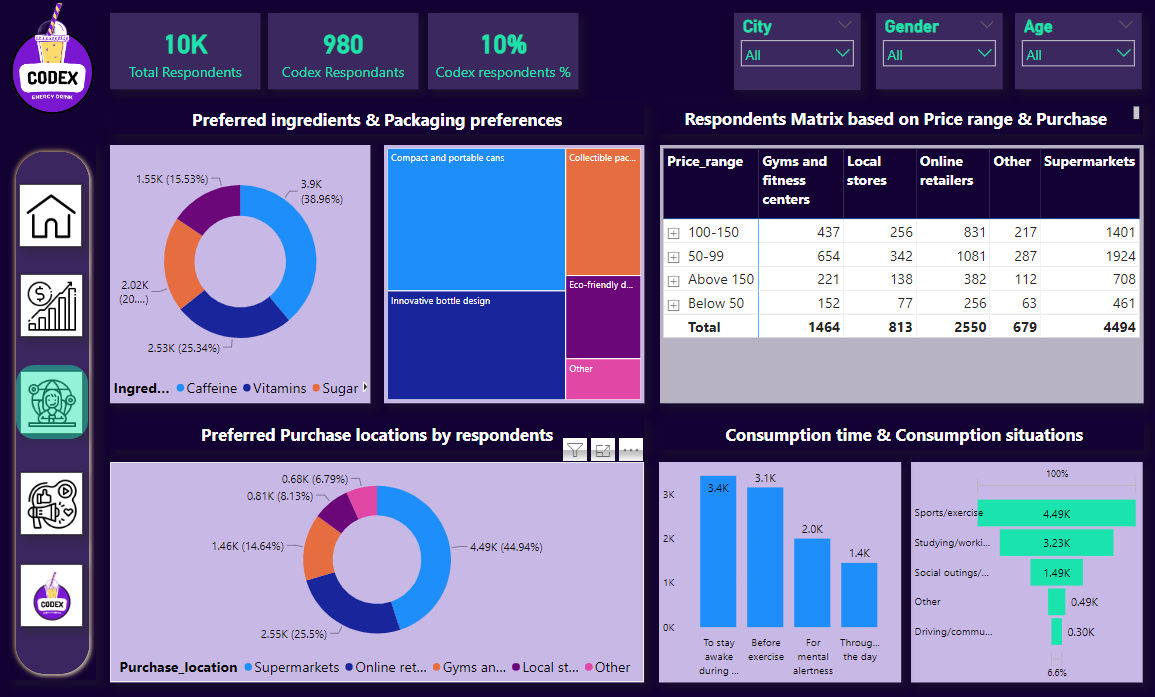

The dashboard page shown, as its layout file describes it:
{"tool":"powerbi","page":{"name":"Consumer View","canvas":[1650,1000],"ordinal":2},"visuals":[{"type":"treemap","fields":{"Group":["codex fact_survey_responses.Packaging_preference"],"Values":["CountNonNull(codex dim_repondents.Respondent_ID)"]},"box":[548.1,209.3,372.2,368.5],"z":0},{"type":"pivotTable","fields":{"Rows":["codex fact_survey_responses.Price_range","codex dim_repondents.Age"],"Columns":["codex fact_survey_responses.Purchase_location"],"Values":["CountNonNull(codex fact_survey_responses.Respondent_ID)"]},"box":[942.6,209.3,690.7,368.5],"z":1000},{"type":"funnel","fields":{"Category":["codex fact_survey_responses.Typical_consumption_situations"],"Y":["CountNonNull(codex fact_survey_responses.Respondent_ID)"]},"box":[1301.9,661.1,331.5,314.8],"z":2000},{"type":"donutChart","fields":{"Category":["codex fact_survey_responses.Purchase_location"],"Y":["CountNonNull(codex fact_survey_responses.Respondent_ID)"]},"box":[157.4,661.1,763,314.8],"z":3000},{"type":"textbox","box":[157.4,150,763,42.6],"z":4000},{"type":"textbox","box":[157.4,600,763,44.4],"z":5000},{"type":"textbox","box":[942.6,600,690.7,44.4],"z":6000},{"type":"textbox","box":[940.7,148.1,690.7,44.4],"z":7000},{"type":"columnChart","fields":{"Category":["codex fact_survey_responses.Consume_time"],"Y":["CountNonNull(codex fact_survey_responses.Respondent_ID)"]},"box":[940.7,661.1,346.3,314.8],"z":8000},{"type":"donutChart","fields":{"Y":["CountNonNull(codex fact_survey_responses.Respondent_ID)"],"Category":["codex fact_survey_responses.Ingredients_expected"]},"box":[157.4,209.3,372.2,368.5],"z":9000},{"type":"shape","box":[13,209.3,124.1,764.8],"z":10000},{"type":"image","box":[27.1,264.3,90,90],"z":11000},{"type":"image","box":[28.6,675.7,90,90],"z":12000},{"type":"image","box":[28.6,531.4,90,90],"z":13000},{"type":"image","box":[28.6,392.9,90,90],"z":14000},{"type":"image","box":[28.6,807.1,90,90],"z":15000},{"type":"shape","box":[22.9,522.9,102.9,105.7],"z":16000},{"type":"image","box":[1.4,0,145.7,171.4],"z":17000},{"type":"card","title":"Total Respondents","fields":{"Values":["CountNonNull(codex fact_survey_responses.Respondent_ID)"]},"box":[157.4,20.4,215,109.3],"z":18000},{"type":"slicer","fields":{"Values":["codex dim_repondents.Gender"]},"box":[1251.9,20.4,181.5,109.3],"z":19000},{"type":"slicer","fields":{"Values":["codex dim_repondents.Age"]},"box":[1450,20.4,181.5,109.3],"z":20000},{"type":"slicer","fields":{"Values":["codex dim_cities.City"]},"box":[1048.6,20,181.4,110],"z":21000},{"type":"card","fields":{"Values":["Report measures.Codex respondent"]},"box":[383.3,20.4,214.8,109.3],"z":22000},{"type":"card","fields":{"Values":["Report measures.Codex respondents %"]},"box":[611.1,20.4,214.8,109.3],"z":23000}]}

Visuals, with their boxes in screenshot pixels (x1, y1, x2, y2), scaled from the page's 1650x1000 canvas onto the 1155x697 screenshot:
treemap - codex fact_survey_responses.Packaging_preference x CountNonNull(codex dim_repondents.Respondent_ID): [x1=384, y1=146, x2=644, y2=403]
pivotTable - codex fact_survey_responses.Price_range x codex dim_repondents.Age: [x1=660, y1=146, x2=1143, y2=403]
funnel - codex fact_survey_responses.Typical_consumption_situations x CountNonNull(codex fact_survey_responses.Respondent_ID): [x1=911, y1=461, x2=1143, y2=680]
donutChart - codex fact_survey_responses.Purchase_location x CountNonNull(codex fact_survey_responses.Respondent_ID): [x1=110, y1=461, x2=644, y2=680]
textbox: [x1=110, y1=105, x2=644, y2=134]
textbox: [x1=110, y1=418, x2=644, y2=449]
textbox: [x1=660, y1=418, x2=1143, y2=449]
textbox: [x1=658, y1=103, x2=1142, y2=134]
columnChart - codex fact_survey_responses.Consume_time x CountNonNull(codex fact_survey_responses.Respondent_ID): [x1=658, y1=461, x2=901, y2=680]
donutChart - CountNonNull(codex fact_survey_responses.Respondent_ID) x codex fact_survey_responses.Ingredients_expected: [x1=110, y1=146, x2=371, y2=403]
shape: [x1=9, y1=146, x2=96, y2=679]
image: [x1=19, y1=184, x2=82, y2=247]
image: [x1=20, y1=471, x2=83, y2=534]
image: [x1=20, y1=370, x2=83, y2=433]
image: [x1=20, y1=274, x2=83, y2=337]
image: [x1=20, y1=563, x2=83, y2=625]
shape: [x1=16, y1=364, x2=88, y2=438]
image: [x1=1, y1=0, x2=103, y2=119]
"Total Respondents" card: [x1=110, y1=14, x2=261, y2=90]
slicer - codex dim_repondents.Gender: [x1=876, y1=14, x2=1003, y2=90]
slicer - codex dim_repondents.Age: [x1=1015, y1=14, x2=1142, y2=90]
slicer - codex dim_cities.City: [x1=734, y1=14, x2=861, y2=91]
card - Report measures.Codex respondent: [x1=268, y1=14, x2=419, y2=90]
card - Report measures.Codex respondents %: [x1=428, y1=14, x2=578, y2=90]
